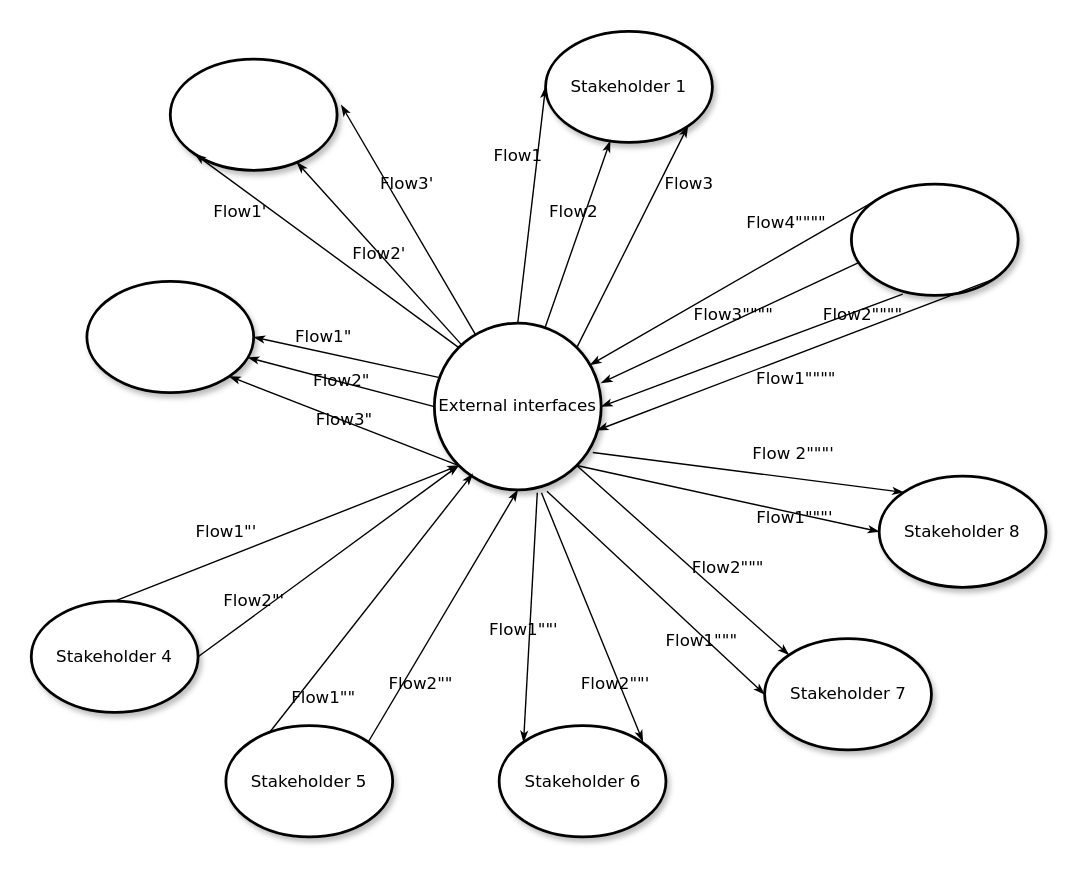
This 1079x872 diagram has some shape labels left out. Each missing label, with the centre of its shape:
Stakeholder 2: (x=254, y=116)
Stakeholder 3: (x=171, y=338)
Stakeholder 9: (x=935, y=241)
